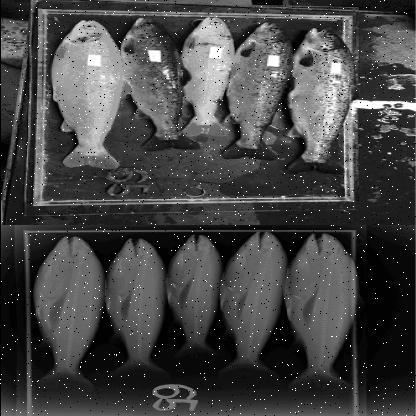fish: (36, 15, 132, 169), (282, 26, 360, 176), (218, 20, 300, 160), (116, 16, 194, 154), (180, 16, 242, 138)
